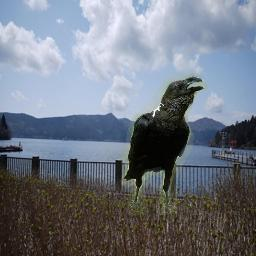Crow: (121, 73, 208, 215)
